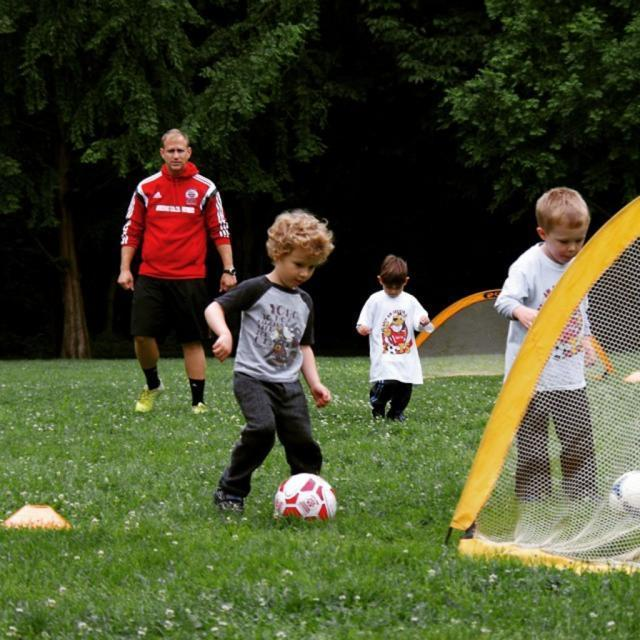football: (257, 463, 351, 530)
